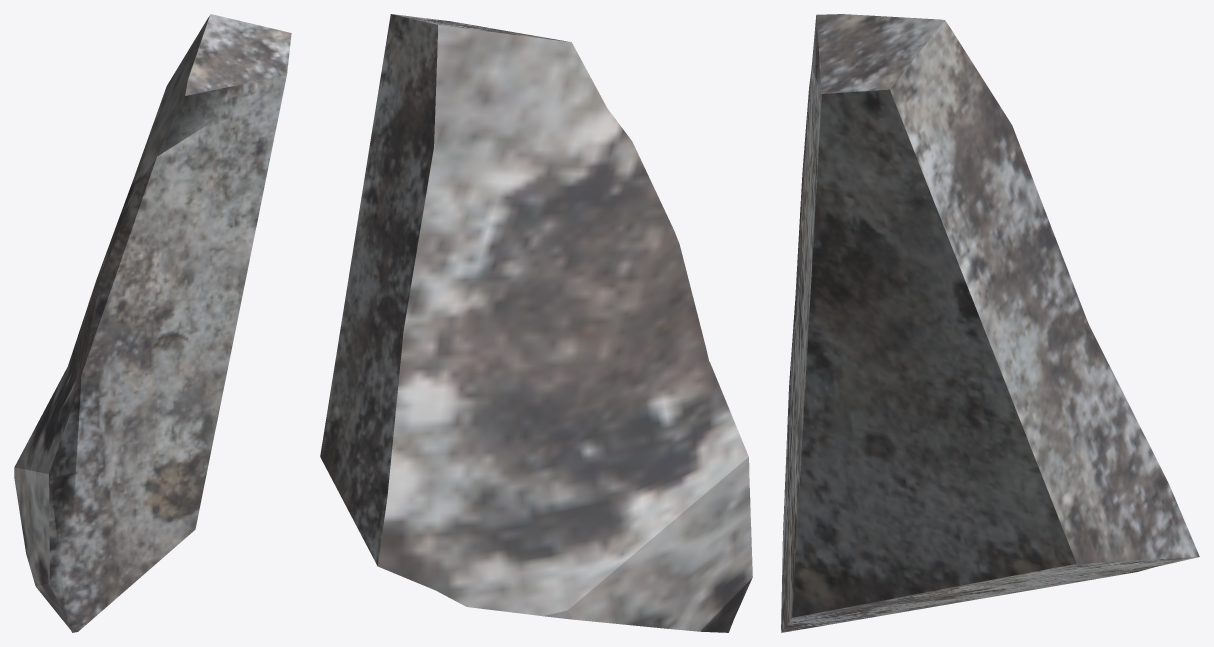
The model's file is Asteroid_Large_001_02_005_03_008.fbx.
3 renders of one model, left to right at view 1: azimuth 30°, elevation 25°; view 2: azimuth 150°, elevation 25°; view 3: azimuth 270°, elevation 25°, orthographic. The views are drawn at different scales.
Visible parts, largest first — view 1: Asteroid_Large_001_02_005_03_008; view 2: Asteroid_Large_001_02_005_03_008; view 3: Asteroid_Large_001_02_005_03_008.
Boxes of the visible parts, x1=… form: Asteroid_Large_001_02_005_03_008: x1=14, y1=14, x2=291, y2=632; Asteroid_Large_001_02_005_03_008: x1=320, y1=14, x2=752, y2=632; Asteroid_Large_001_02_005_03_008: x1=781, y1=14, x2=1199, y2=632.
Bounding box in the file's own units: 5.81 × 10.5 × 5.36.
